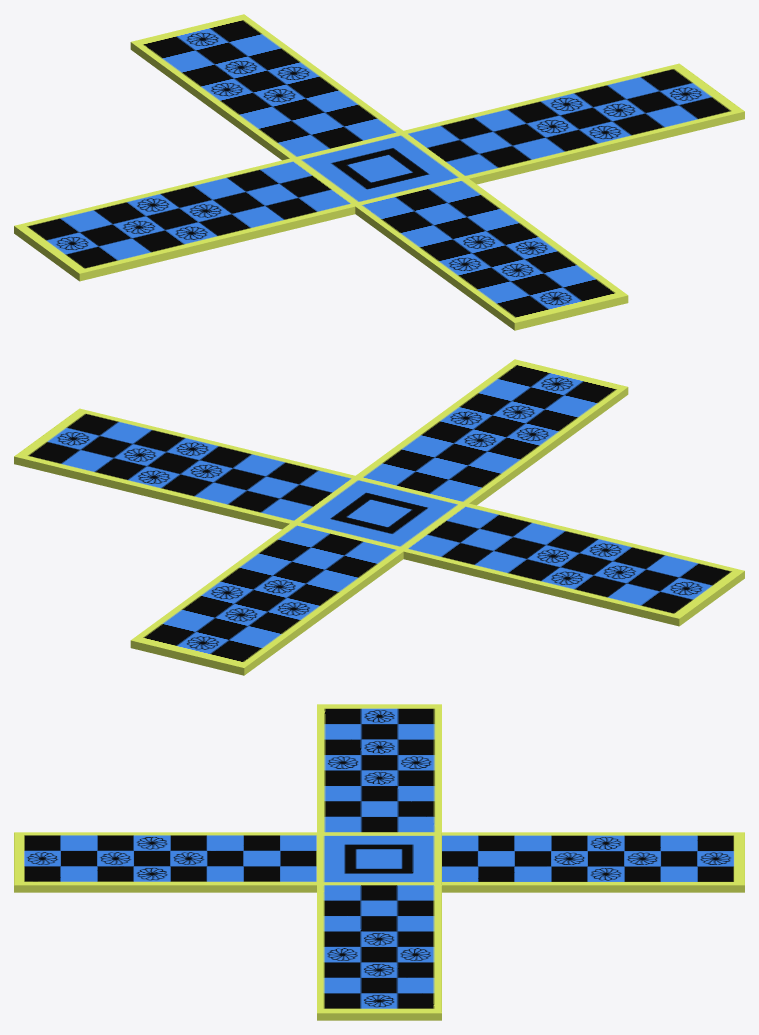
File: Pachisi Board.glb
3 renders of one model, top to bottom at view 1: azimuth 30°, elevation 25°; view 2: azimuth 150°, elevation 25°; view 3: azimuth 270°, elevation 25°, orthographic. The views are drawn at different scales.
Parts seen in each view (by area): view 1: Cube.004; view 2: Cube.004; view 3: Cube.004.
Boxes of the visible parts, left/top/right/bottom form: Cube.004: left=14, top=14, right=744, bottom=330; Cube.004: left=14, top=359, right=744, bottom=675; Cube.004: left=14, top=704, right=744, bottom=1020.
Size of the model in its own units: 41 by 0.45 by 41.
Materials: 1 (1 with a texture image).
